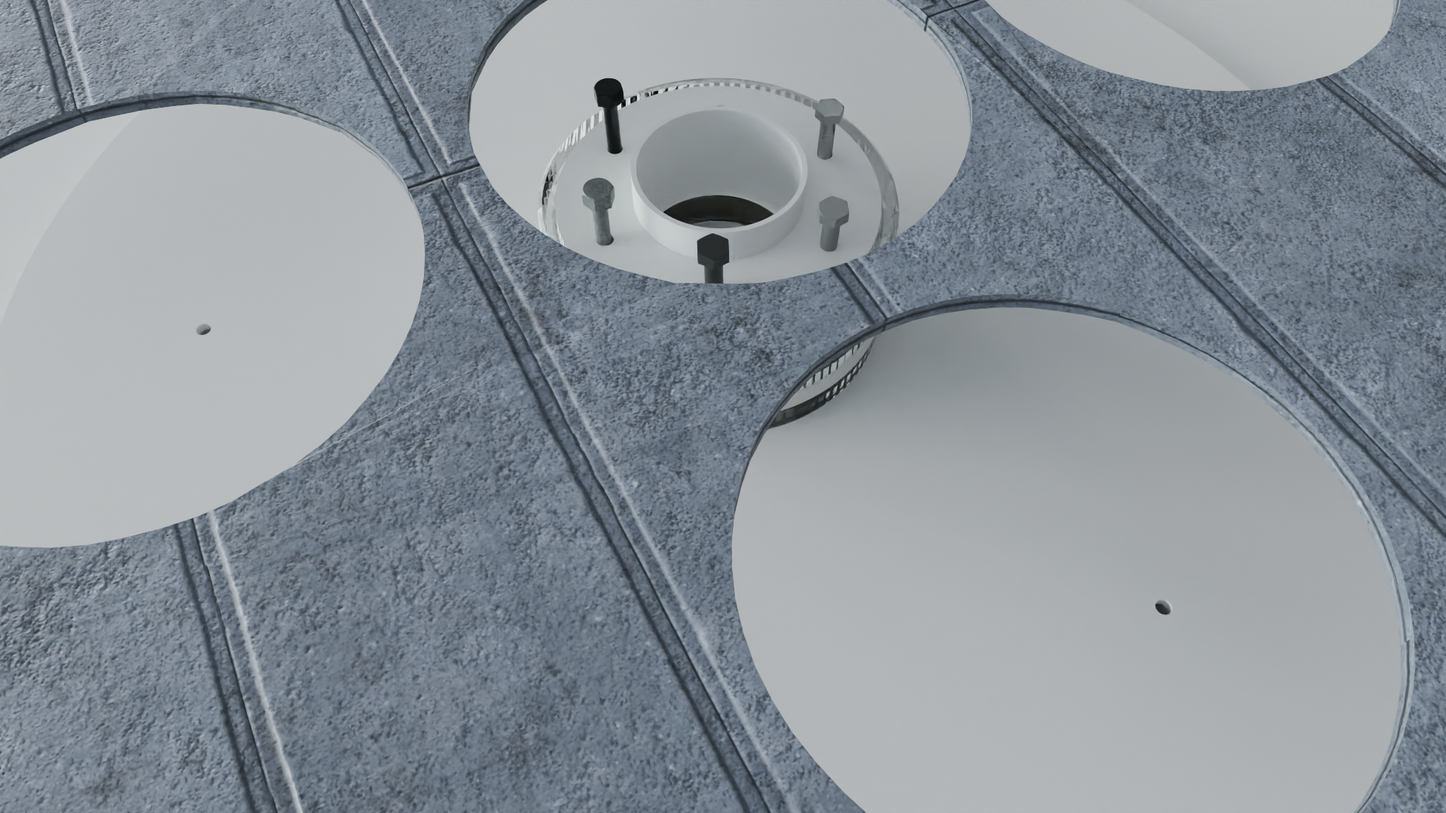bolt: (697, 233, 729, 261), (581, 178, 614, 203), (818, 196, 850, 221), (593, 78, 624, 100), (816, 99, 844, 117)
